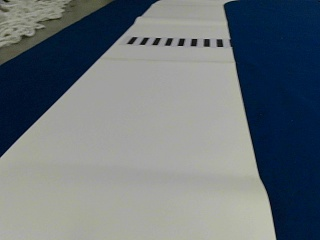crosswalk: (125, 35, 223, 48)
